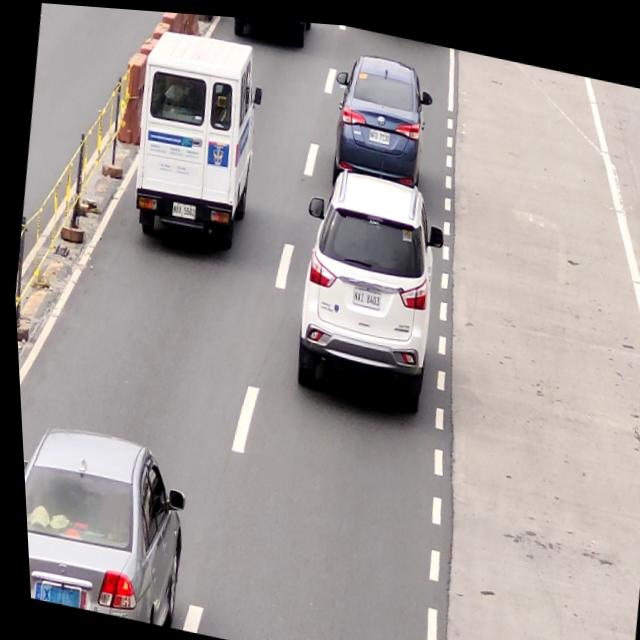Car: (281, 154, 448, 407), (117, 21, 269, 255), (17, 426, 191, 628), (326, 41, 431, 172), (227, 13, 313, 45)
License-Plate: (29, 576, 79, 609), (347, 279, 380, 308), (167, 198, 195, 218), (365, 121, 391, 141)
